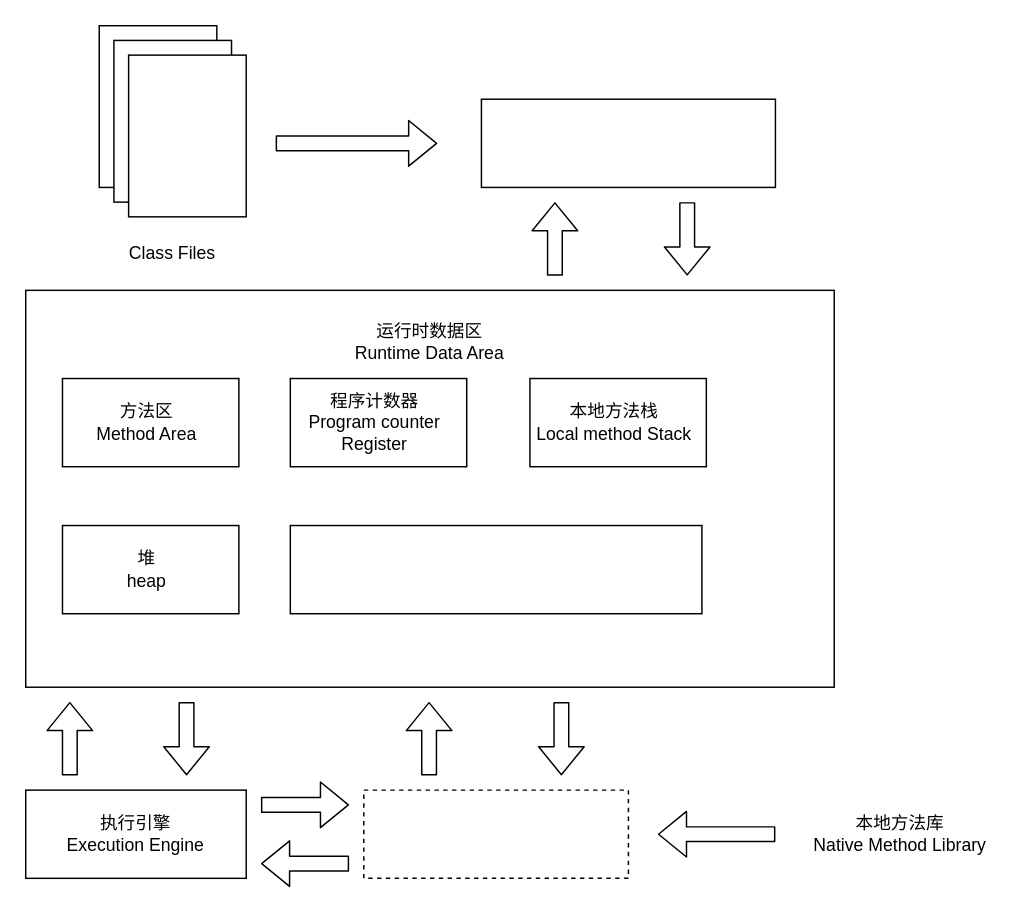
Image size: 1022x913. Some labels were removed from this diagram. The shapes that lost their labels are listed below. From the top down, each one's centre as x and y in pixels, then its label:
(x=627, y=142): 类加载器系统 Class Loader System
(x=495, y=569): 虚拟机栈 Java Virtual Machine Stack
(x=495, y=833): 本地方法接口 Native Method interface
